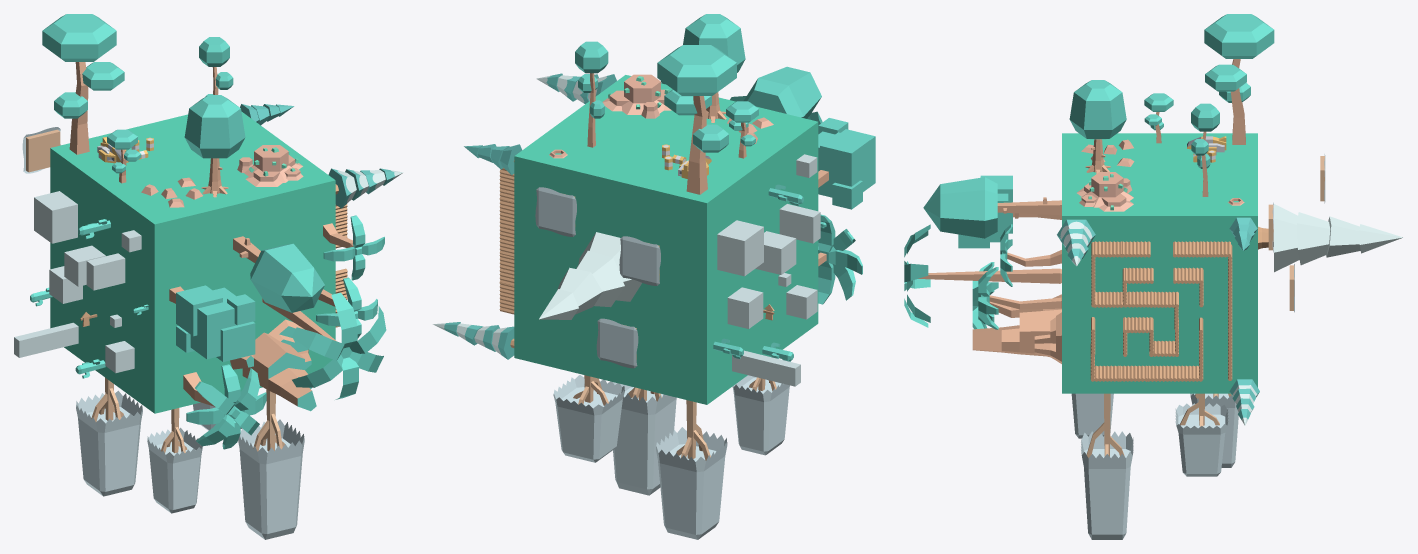
Rendered from cube-world-centered.fbx.
The picture shows the model from 3 angles, left to right: view 1: azimuth 30°, elevation 25°; view 2: azimuth 150°, elevation 25°; view 3: azimuth 270°, elevation 25°; orthographic projection. The views are drawn at different scales.
Parts seen in each view (by area): view 1: arrow_arrowShape; view 2: arrow_arrowShape; view 3: arrow_arrowShape.
Part boxes in pixels (x1,y1,x2,y2): arrow_arrowShape: (14,14,403,539); arrow_arrowShape: (433,14,875,539); arrow_arrowShape: (904,14,1403,539).
Size of the model in its own units: 36.2 by 51.78 by 51.5.
